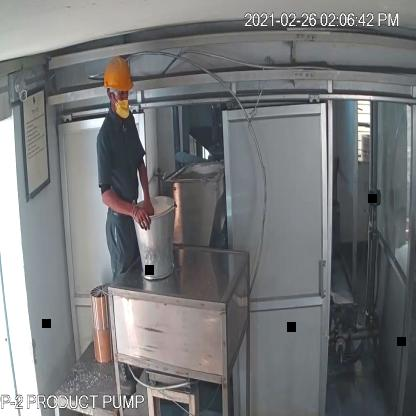helmet: (98, 49, 141, 98)
